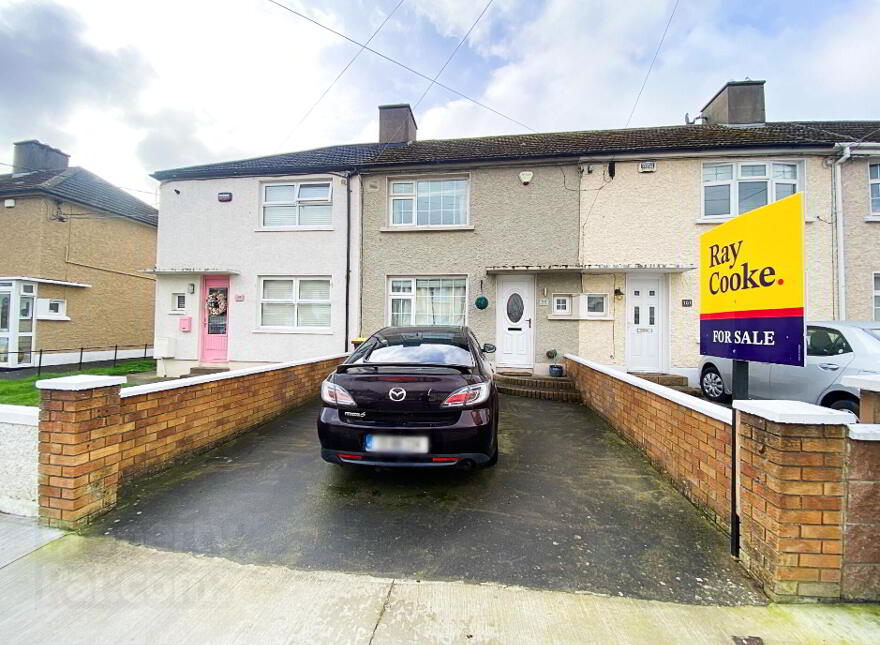property sign: (679, 187, 829, 372)
